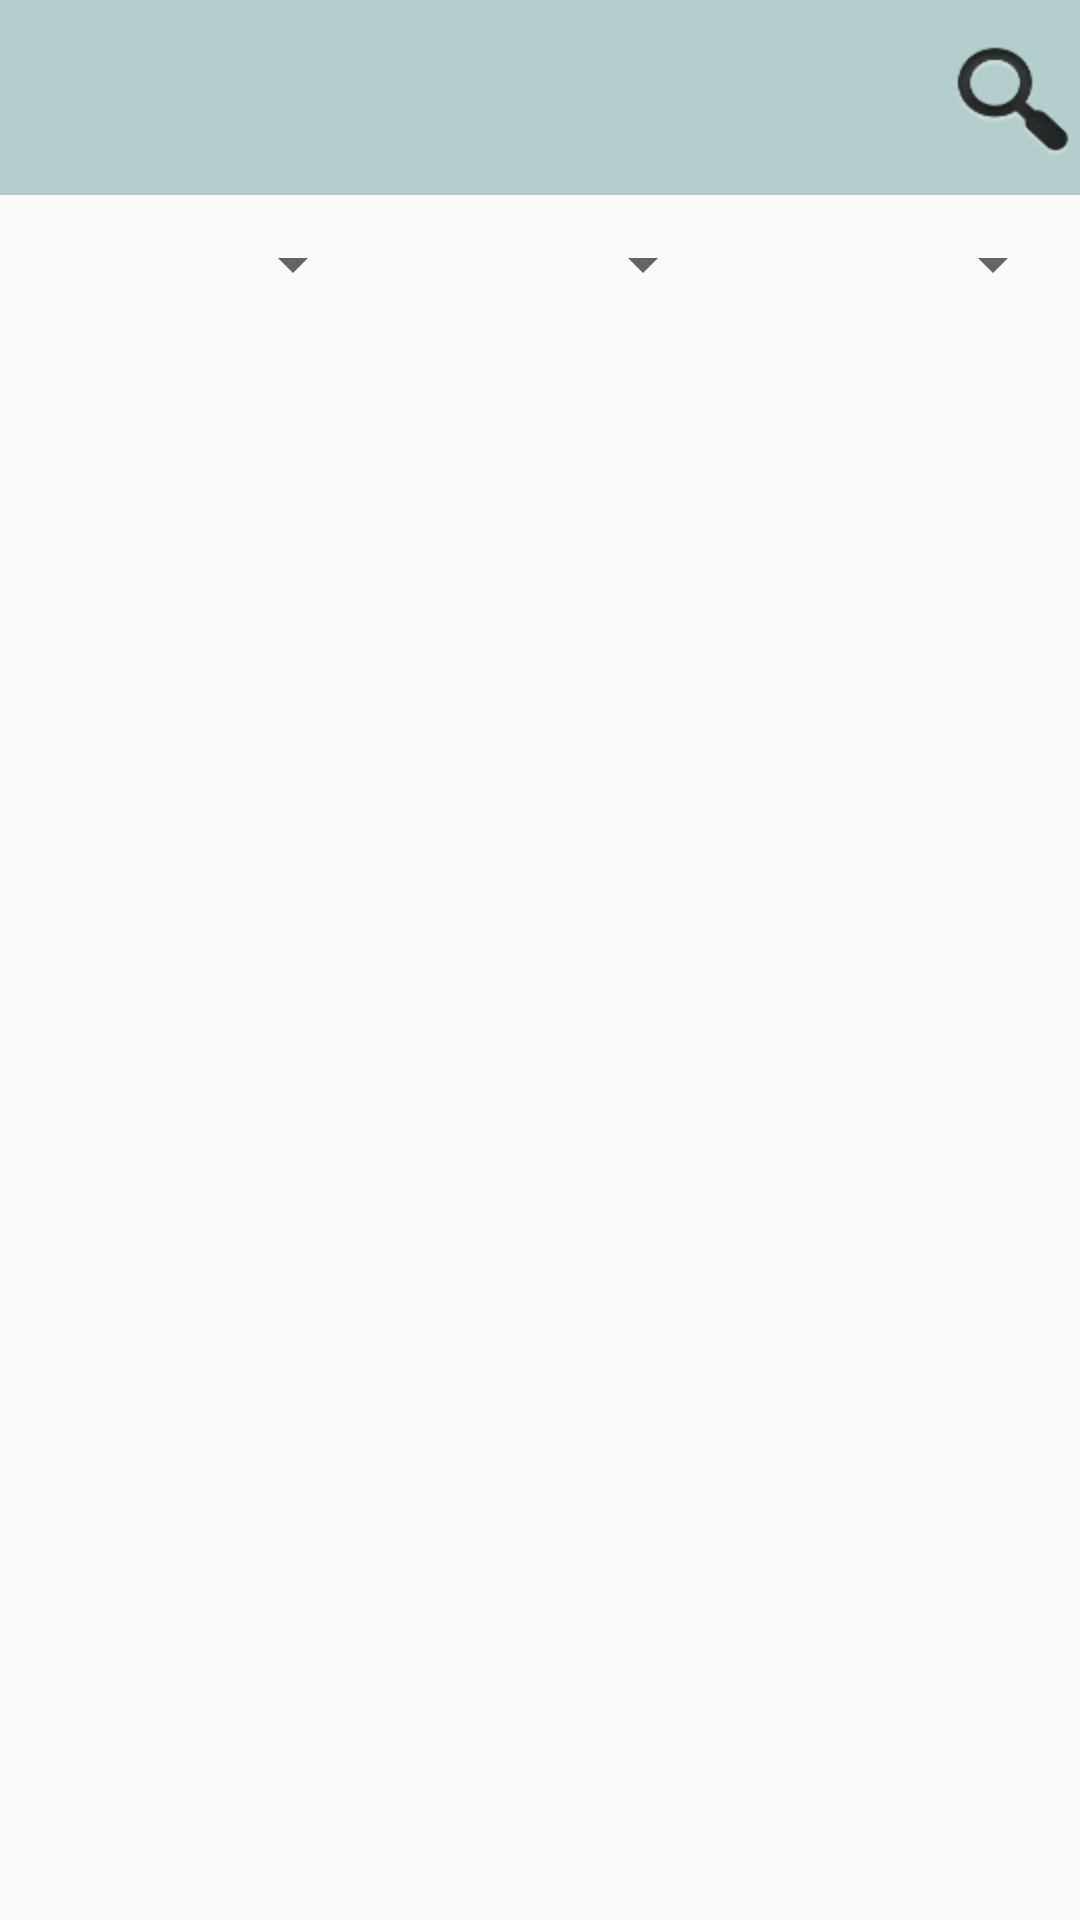

Locate icon controls on the screen. Image size 1080w x 1920h, boxes as (x1, y1, x2, y2).
search: (957, 47, 1069, 151)
